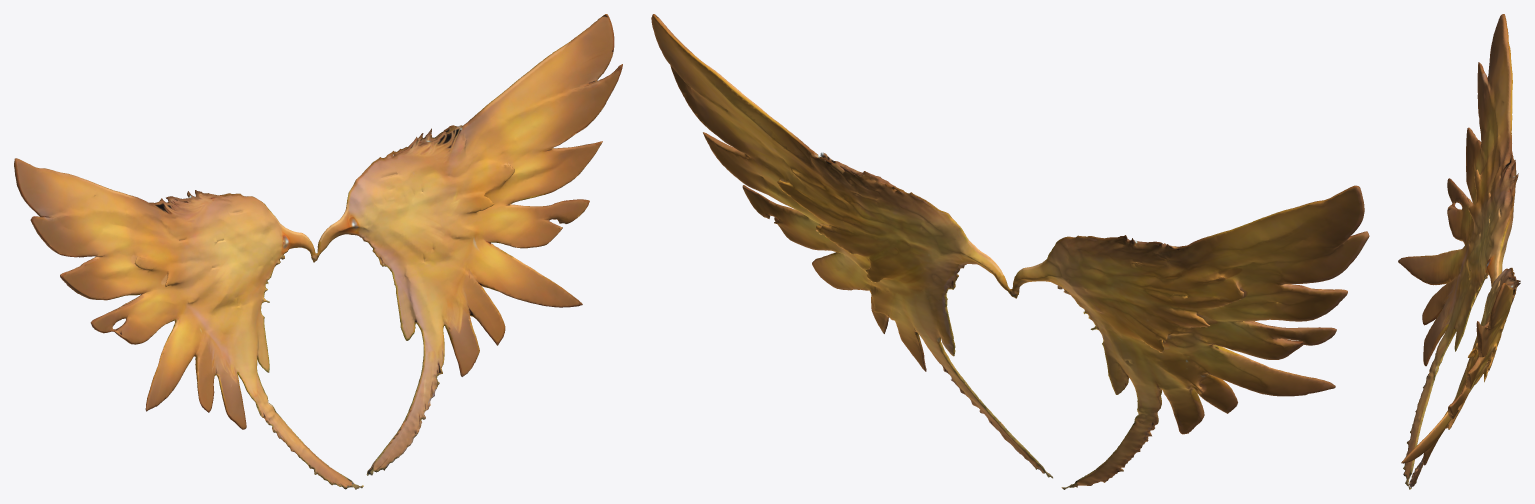
Rendered from flight.glb.
The picture shows the model from 3 angles, left to right: view 1: azimuth 30°, elevation 25°; view 2: azimuth 150°, elevation 25°; view 3: azimuth 270°, elevation 25°; orthographic projection. The views are drawn at different scales.
Size of the model in its own units: 1.99 by 1.16 by 0.3793.
Materials: 1 (1 with a texture image).
